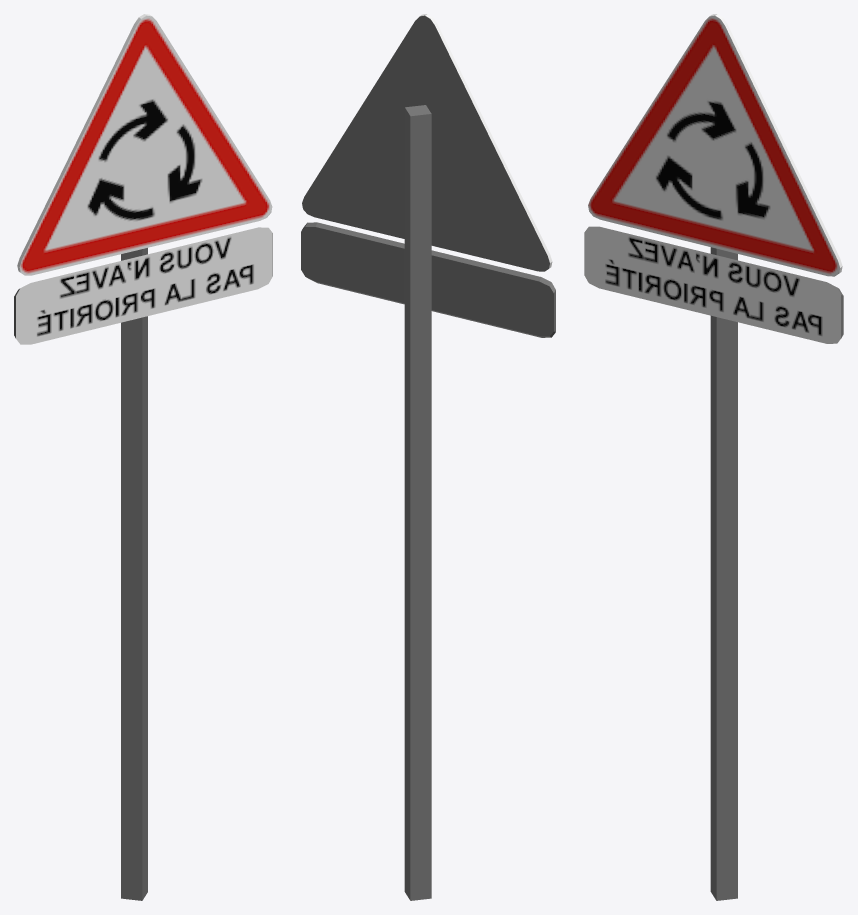
Rendered from RoundAbout.obj.
The picture shows the model from 3 angles, left to right: view 1: azimuth 30°, elevation 25°; view 2: azimuth 150°, elevation 25°; view 3: azimuth 330°, elevation 25°; orthographic projection.
Parts seen in each view (by area): view 1: Sign_Roundabout; view 2: Sign_Roundabout; view 3: Sign_Roundabout.
Part boxes in pixels (<box>): Sign_Roundabout: <box>14,14,272,900</box>; Sign_Roundabout: <box>301,14,555,900</box>; Sign_Roundabout: <box>584,14,843,900</box>.
Bounding box in the file's own units: 1.5 × 4.94 × 0.1916.
Materials: 1 (1 with a texture image).
